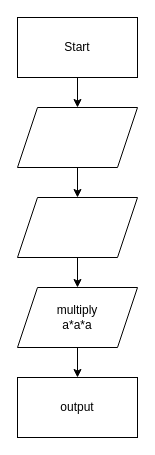
The diagram is 155 pixels wide and 455 high, and some of its shapes have lost their labels. The centre of each missing label's shape, as x and y in pixels:
"multiply 6* (a*a)" goes at point 77,137.
"Output sum" goes at point 77,227.
